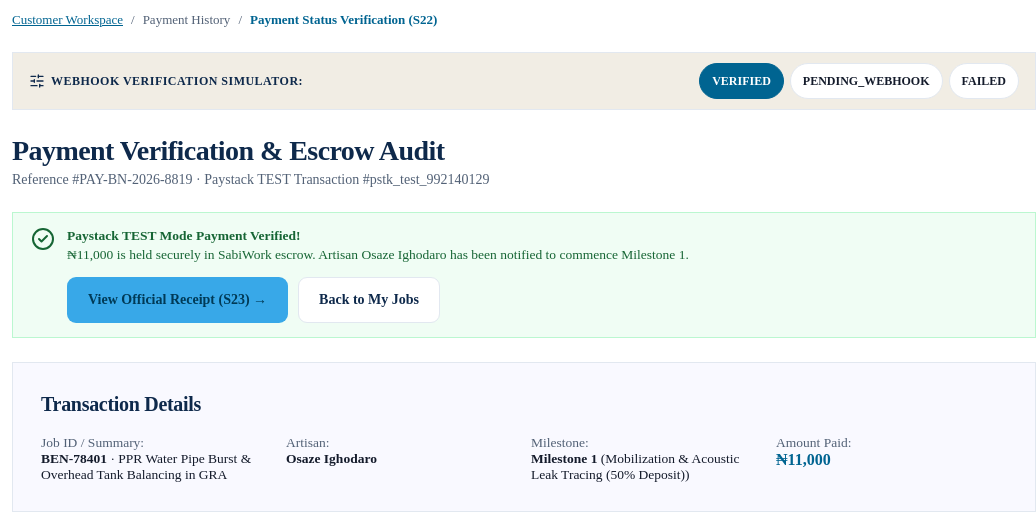
Scenario: Payments, Verification & Receipts (S22, S23, S24, S25) › renders S22 Payment Verification and handles webhook simulator states
This screenshot has width=1036, height=529.
Expected: the heading "Payment Verification & Escrow Audit" is shown, [12,135,444,166]
Expected: the text "Paystack TEST Mode Payment Verified!" is shown, [67,228,300,243]
# Switch to pending webhook
Click the button "PENDING_WEBHOOK": (866, 81) [790,63,943,99]
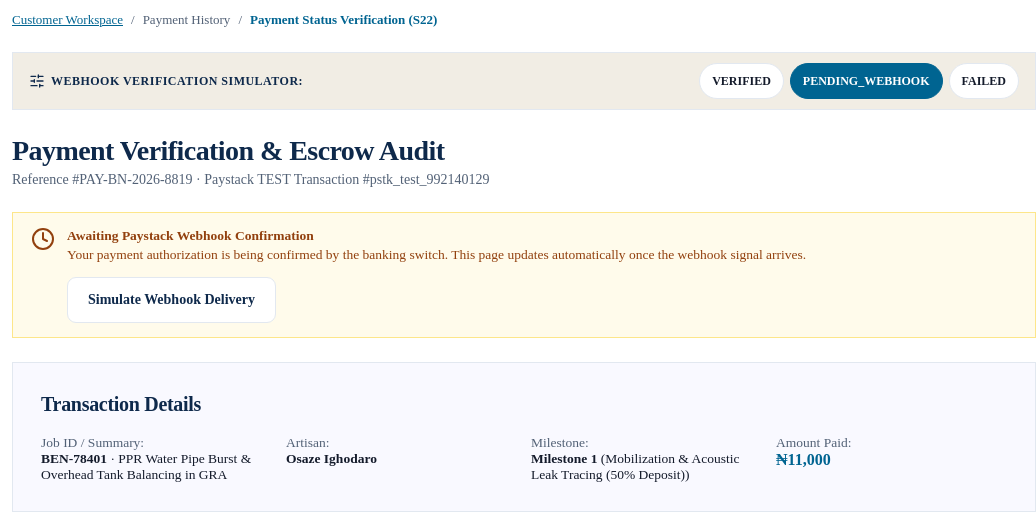
Now the text "Awaiting Paystack Webhook Confirmation" is shown, box [67,228,314,243]
# Switch to failed
Click the button "FAILED": (984, 81) [948,63,1019,99]
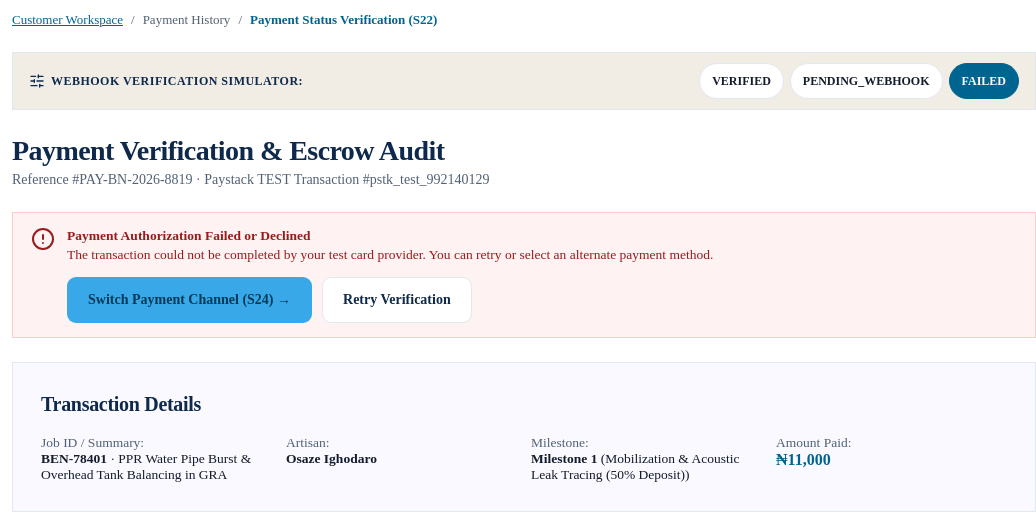
Now the text "Payment Authorization Failed or Declined" is shown, box [67,228,310,243]
